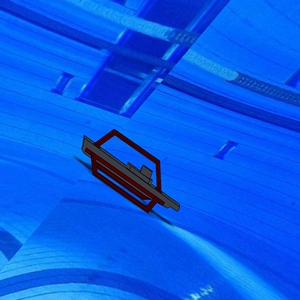submarine: (75, 123, 186, 224)
